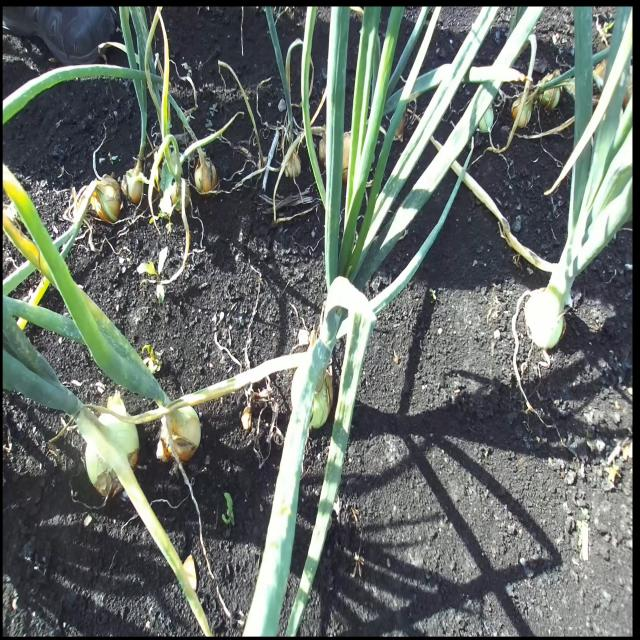onion: (157, 403, 201, 464), (308, 368, 334, 431), (91, 174, 122, 224), (194, 154, 218, 195), (121, 168, 144, 205)
